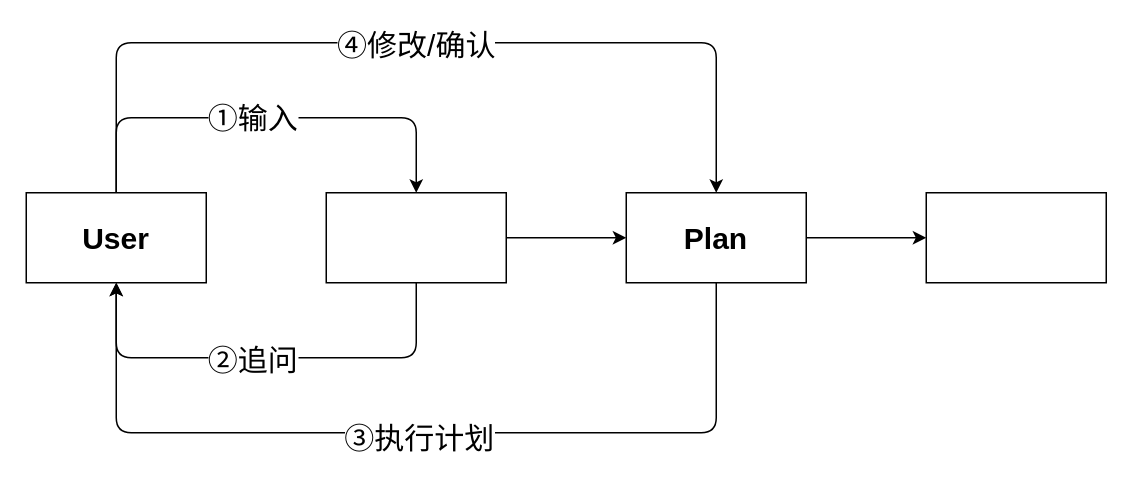
Image size: 1133x480. Some labels were removed from this diagram. The centre of each missing label's shape, as x and y in pixels:
"Action" belongs at [1015,237].
"Proxy" belongs at [415,237].
